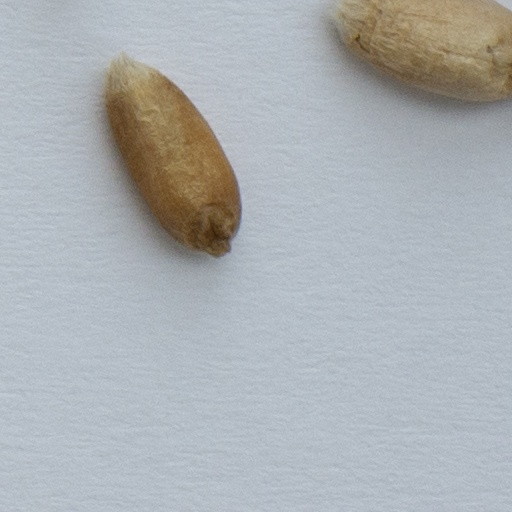Wheat-grain-poly: (106, 56, 243, 257), (327, 1, 511, 105)
